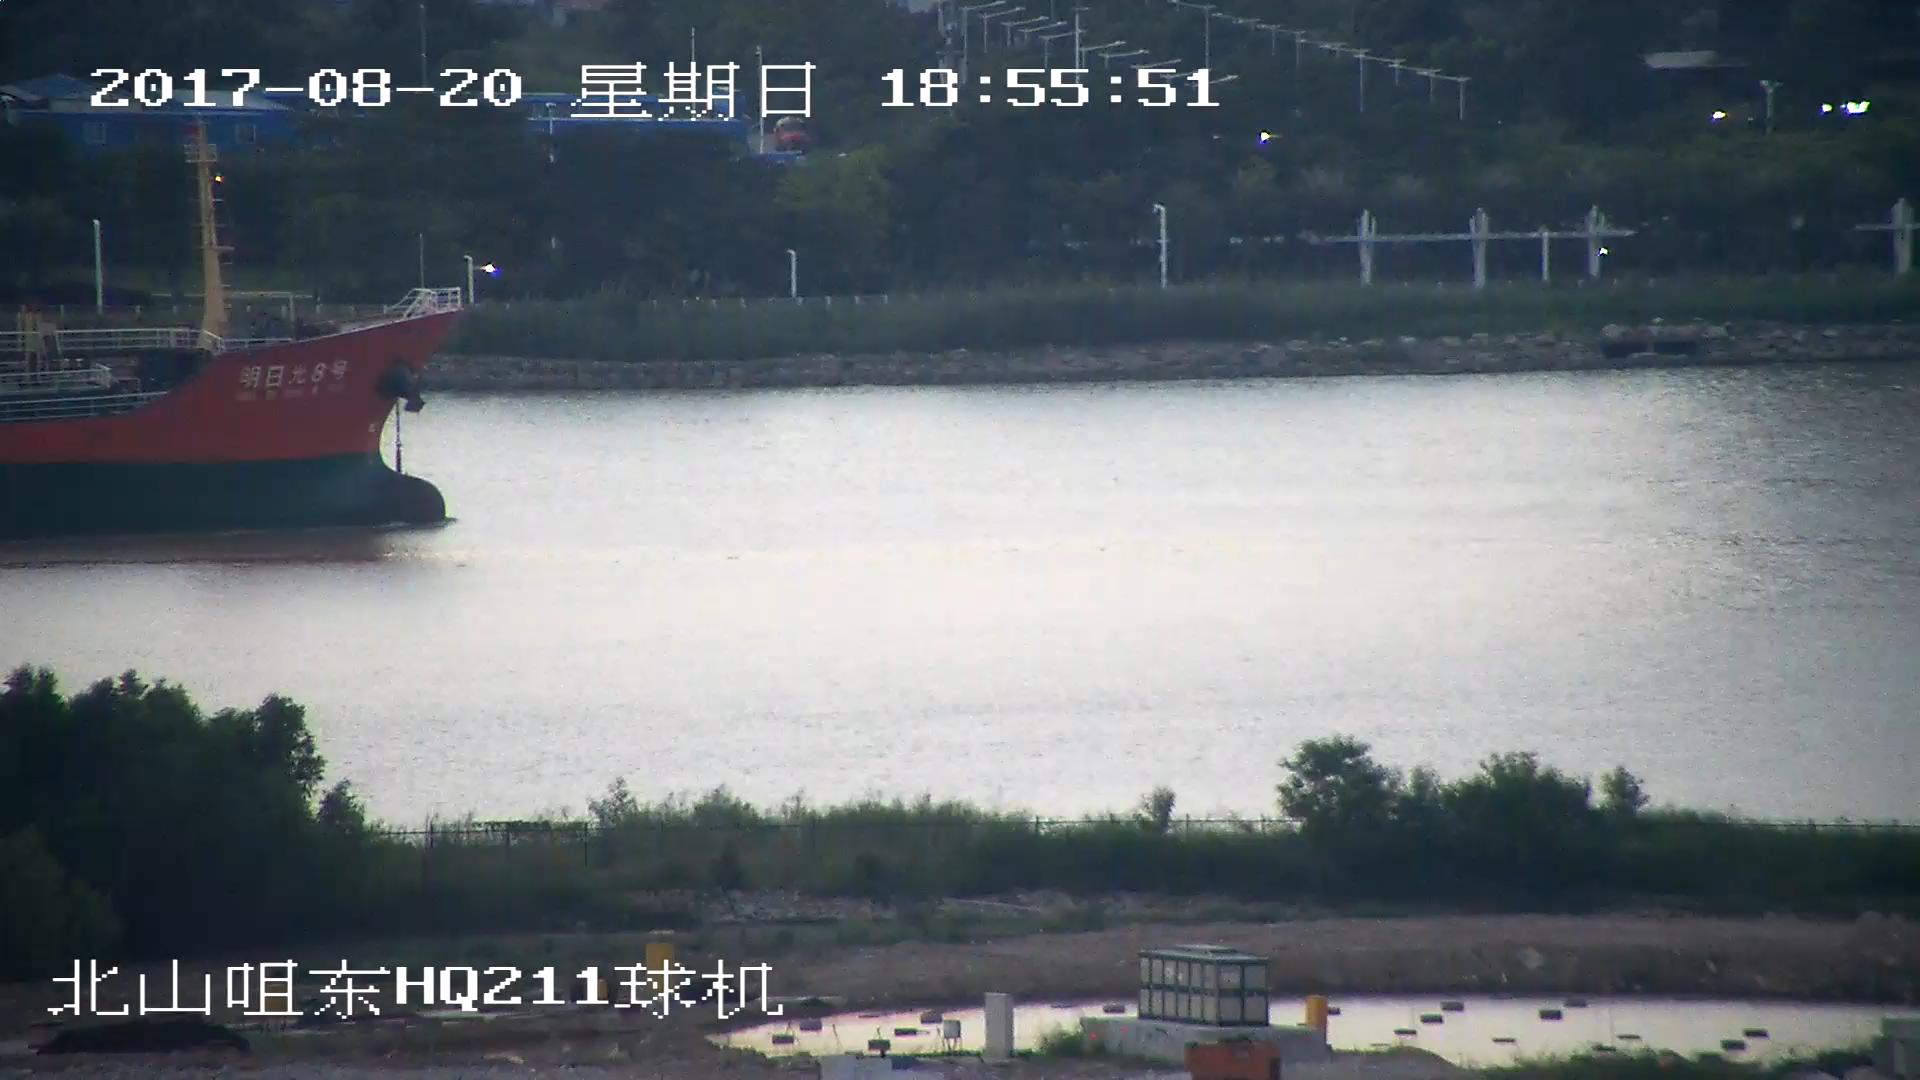general cargo ship: (1, 153, 471, 534)
